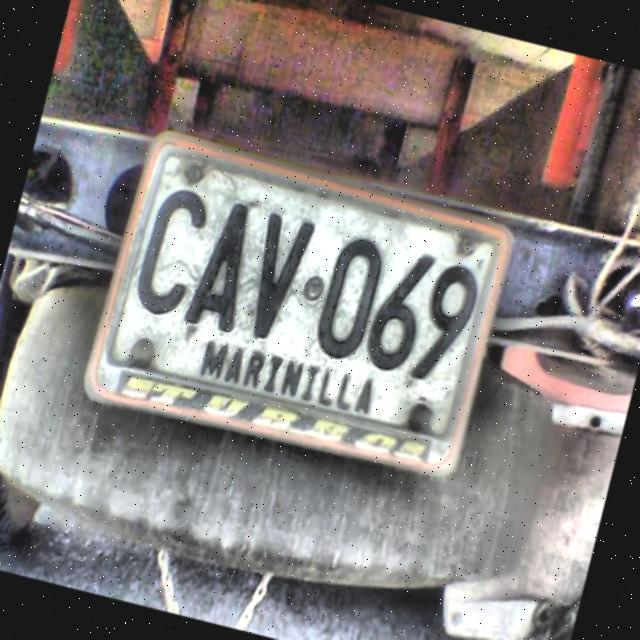plate: (83, 131, 512, 478)
